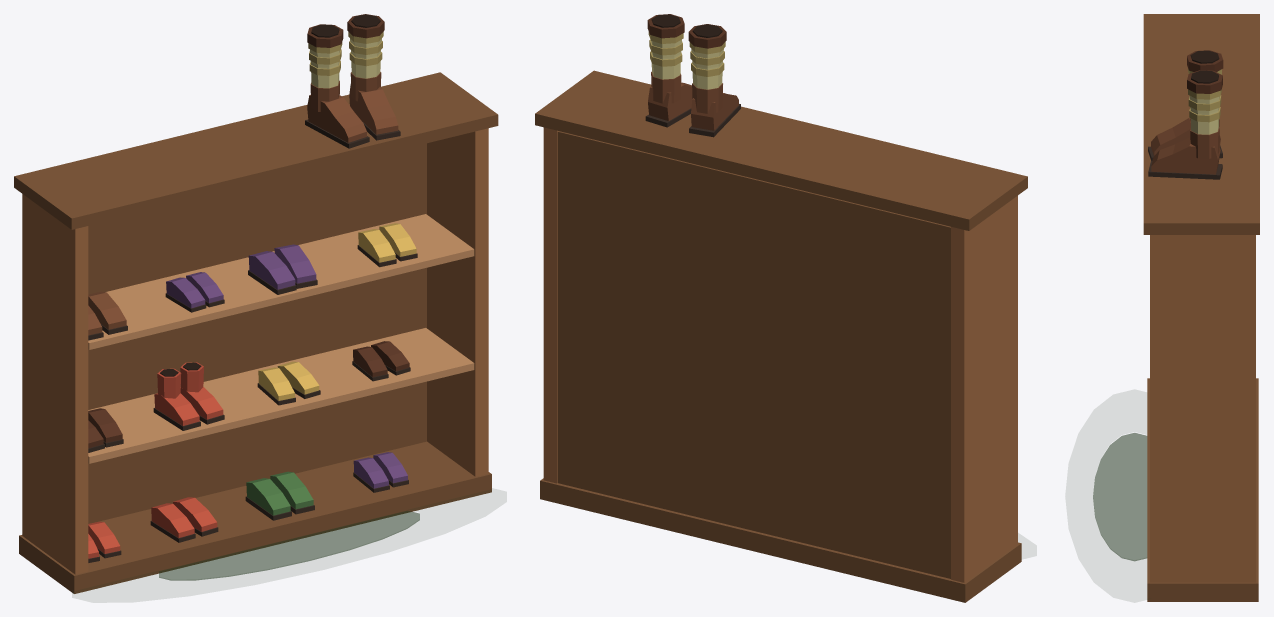
The model's file is boot_rack.glb.
The picture shows the model from 3 angles, left to right: view 1: azimuth 30°, elevation 25°; view 2: azimuth 150°, elevation 25°; view 3: azimuth 270°, elevation 25°; orthographic projection.
Parts seen in each view (by area): view 1: boot_rack; view 2: boot_rack; view 3: boot_rack.
Part boxes in pixels (left/top/right/bottom): boot_rack: left=14, top=14, right=498, bottom=594; boot_rack: left=535, top=14, right=1027, bottom=602; boot_rack: left=1093, top=14, right=1259, bottom=601.
Bounding box in the file's own units: 2 × 2.09 × 0.77.
